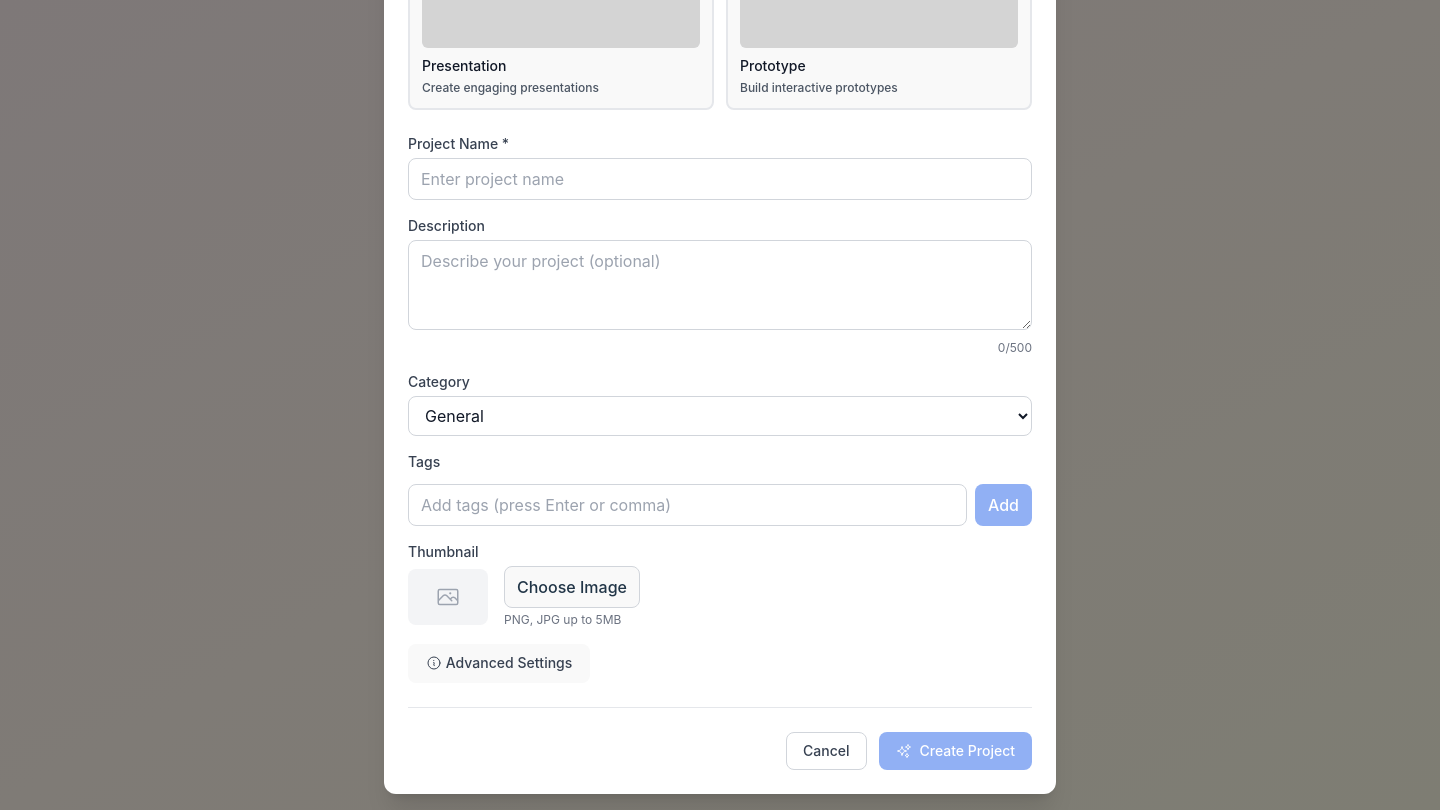
CreateProjectModal › Tag Management › should add tag when comma is pressed
This screenshot has width=1440, height=810.
(page scrolled)
In the field labelled "Tags": (688, 505) [408,484,967,526], type "ui,ux"
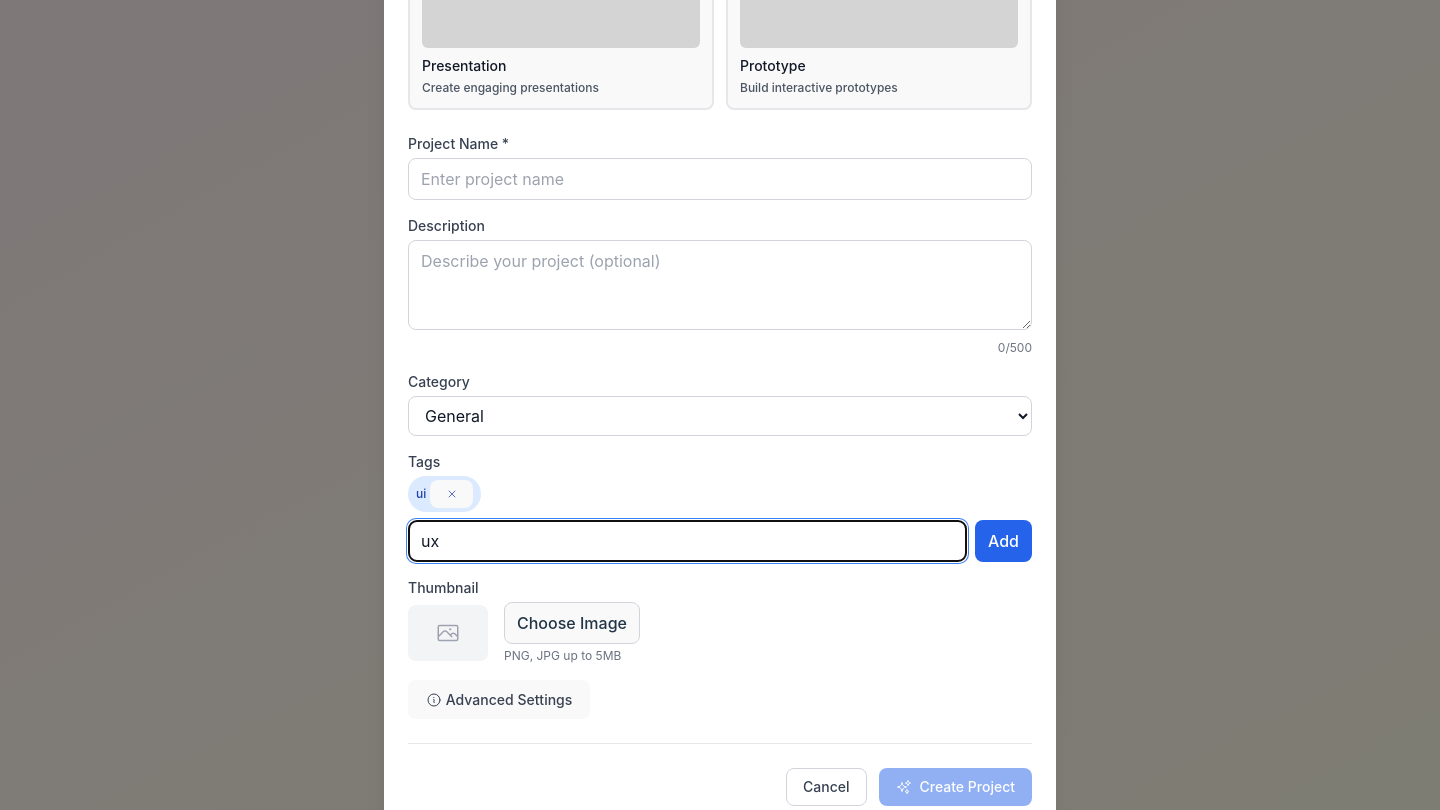
Type keys ","
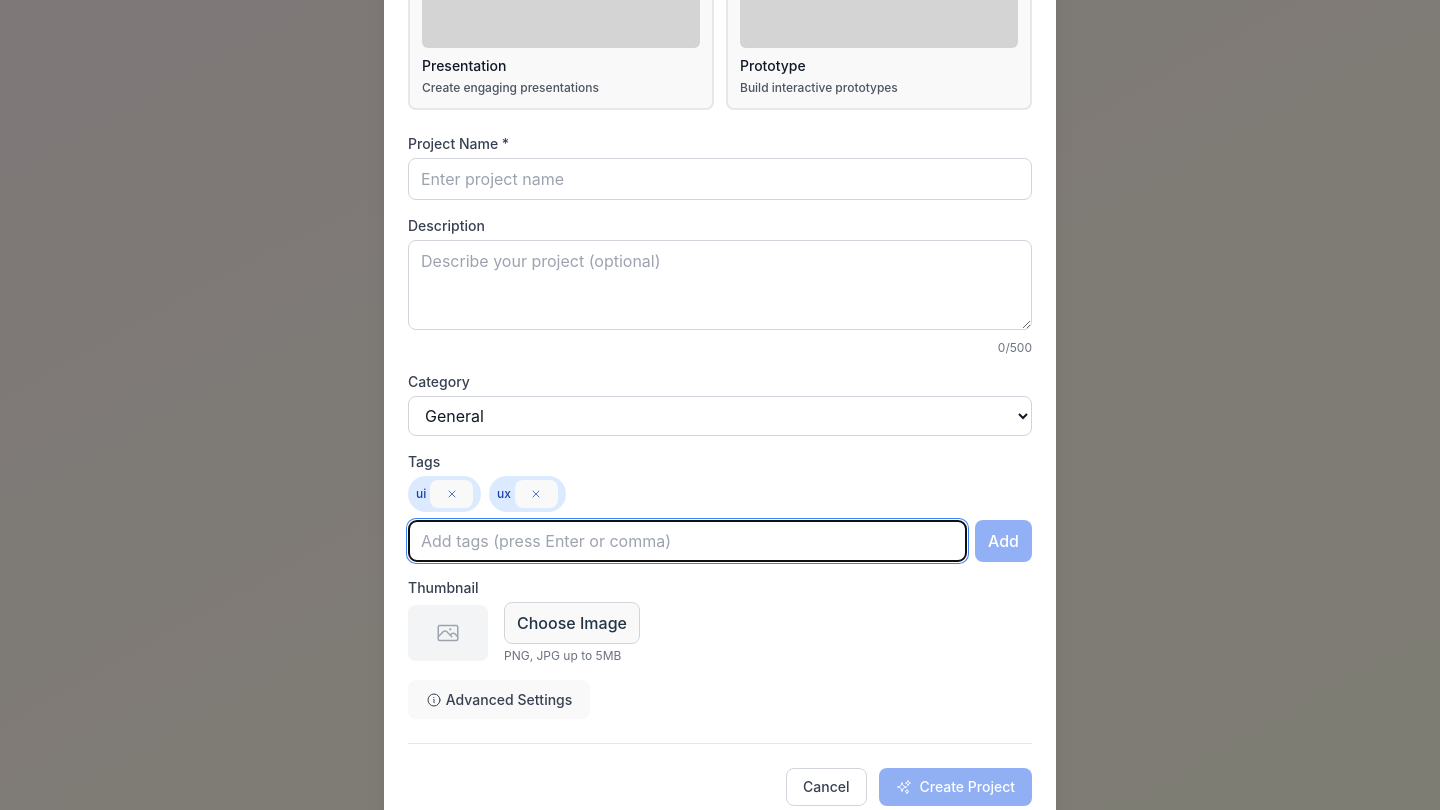
Expected: the text "ui" is shown, [408,476,481,512]
Expected: the text "ux" is shown, [489,476,566,512]
